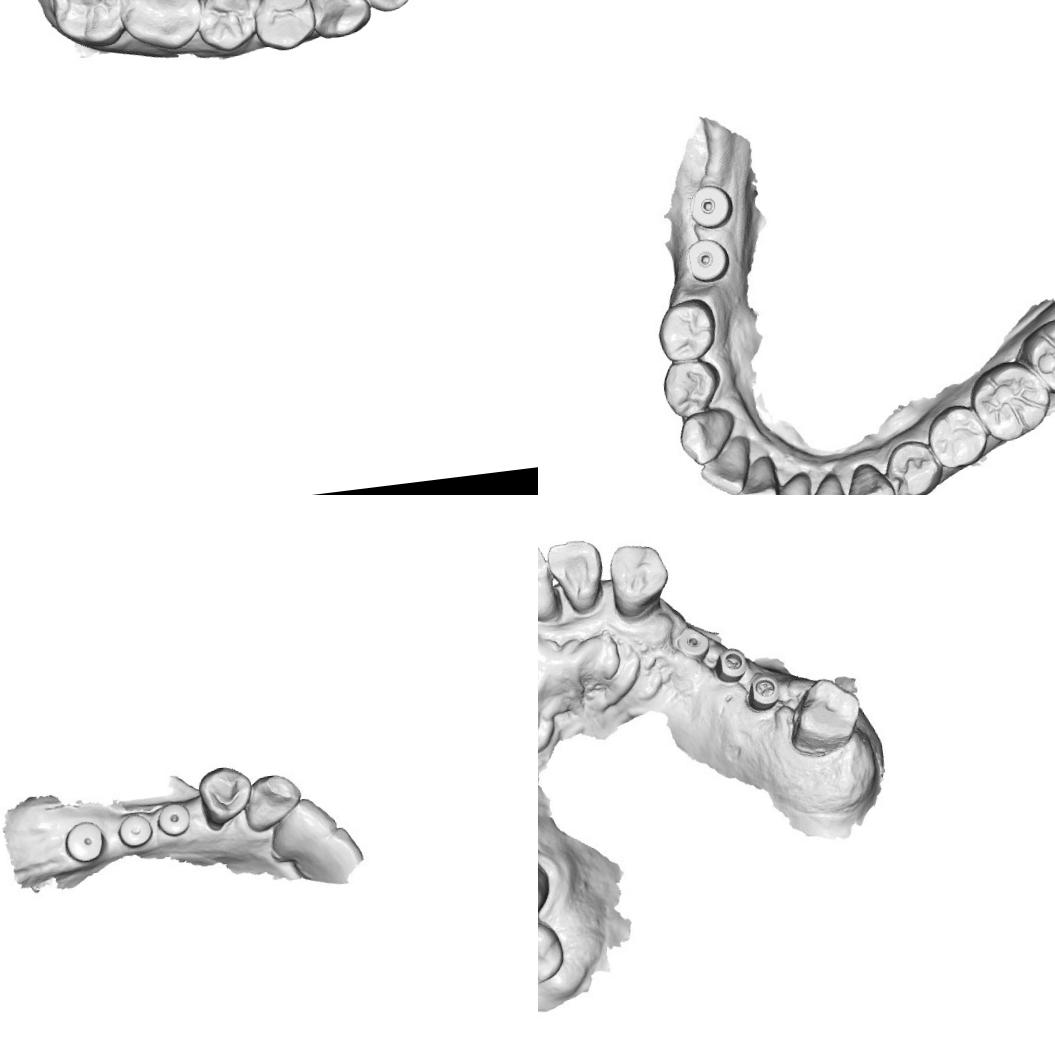canine: (603, 540, 674, 618), (240, 766, 308, 837), (674, 405, 736, 468), (305, 0, 374, 42), (841, 457, 896, 495)
crown: (781, 674, 870, 763)
implant: (686, 180, 736, 230), (684, 236, 732, 286), (64, 817, 109, 867), (667, 620, 714, 666), (115, 810, 160, 854), (746, 674, 782, 712), (714, 646, 752, 681), (156, 802, 188, 837)
incisor: (266, 788, 343, 866), (542, 530, 608, 618), (699, 437, 754, 495), (538, 540, 565, 632), (732, 454, 784, 495), (351, 0, 418, 17), (766, 472, 815, 495), (804, 473, 849, 495)
molar: (965, 354, 1054, 448), (113, 0, 205, 57), (40, 0, 129, 53), (1021, 313, 1055, 398), (538, 913, 569, 997)
premolar: (189, 0, 259, 57), (247, 0, 317, 57), (930, 404, 986, 475), (882, 432, 945, 495), (666, 353, 725, 417), (658, 299, 716, 356), (198, 767, 247, 834)
